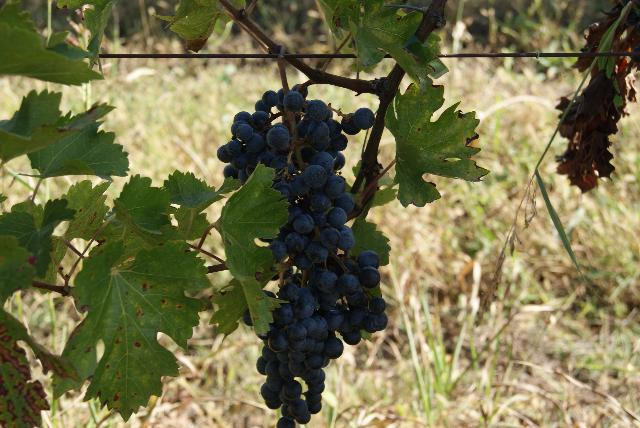grapes: (218, 90, 375, 258), (258, 250, 388, 428)
